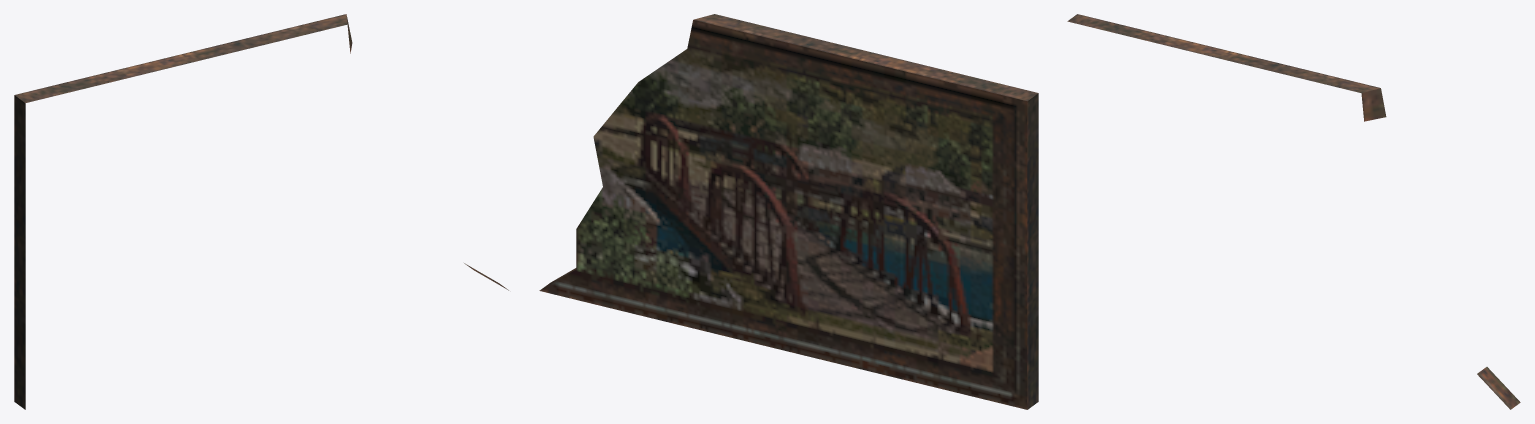
File: Prop_PaintA2.glb
The picture shows the model from 3 angles, left to right: view 1: azimuth 30°, elevation 25°; view 2: azimuth 150°, elevation 25°; view 3: azimuth 330°, elevation 25°; orthographic projection. The views are drawn at different scales.
Visible parts, largest first — view 1: xiutz_paint_a2; view 2: xiutz_paint_a2; view 3: xiutz_paint_a2.
Part boxes in pixels (bbox=[...]): xiutz_paint_a2: bbox=[14, 14, 508, 409]; xiutz_paint_a2: bbox=[539, 14, 1038, 409]; xiutz_paint_a2: bbox=[1067, 14, 1520, 409].
Size of the model in its own units: 1.09 by 0.658 by 0.0435.
1 material, 1 textured.
